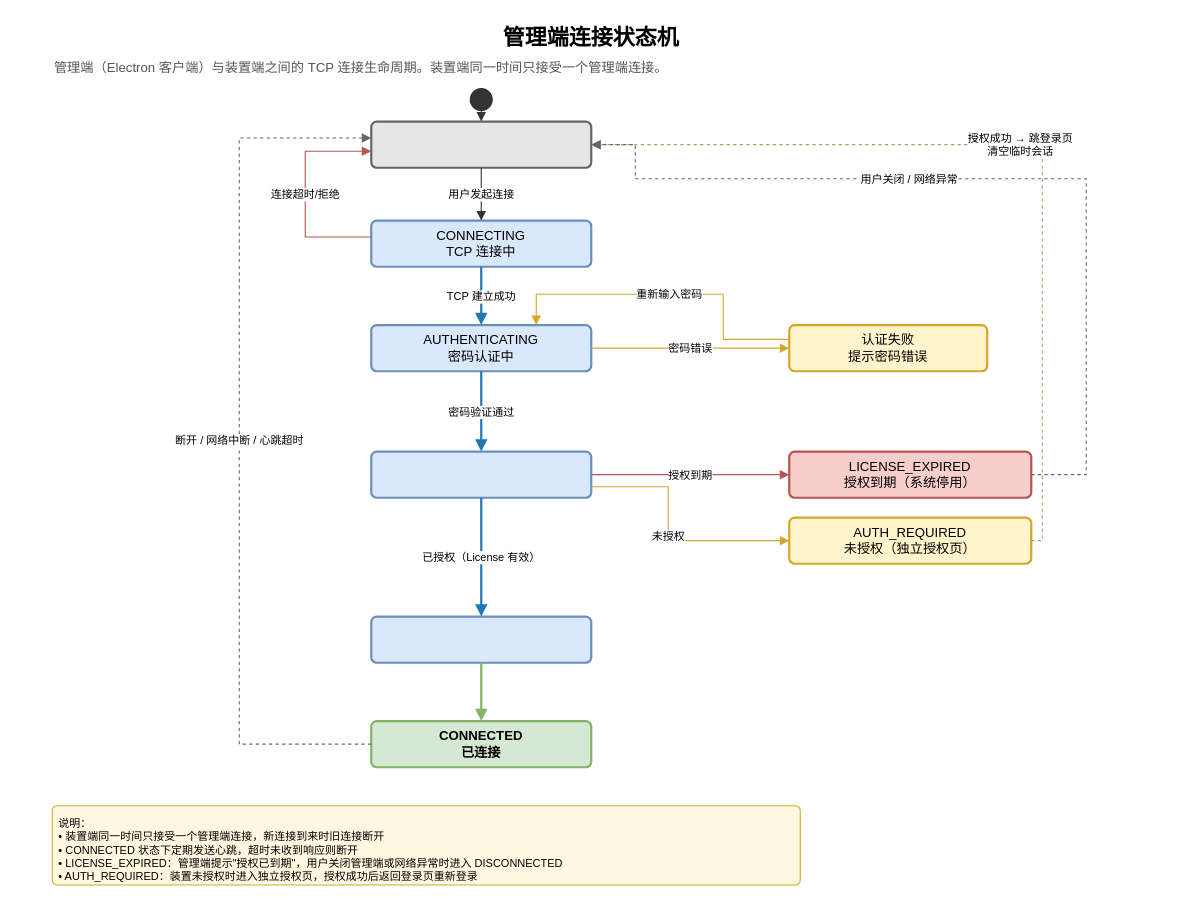
Image size: 1181x904. Some labels were removed from this diagram. Here are the shapes that lost their labels. From the top down, the centre of each, then its label:
At pixel 481 144: "DISCONNECTED 未连接".
At pixel 481 474: "CHECK_LICENSE License 校验中".
At pixel 481 639: "LOADING_CONFIG 按角色加载权限菜单与默认页面".
